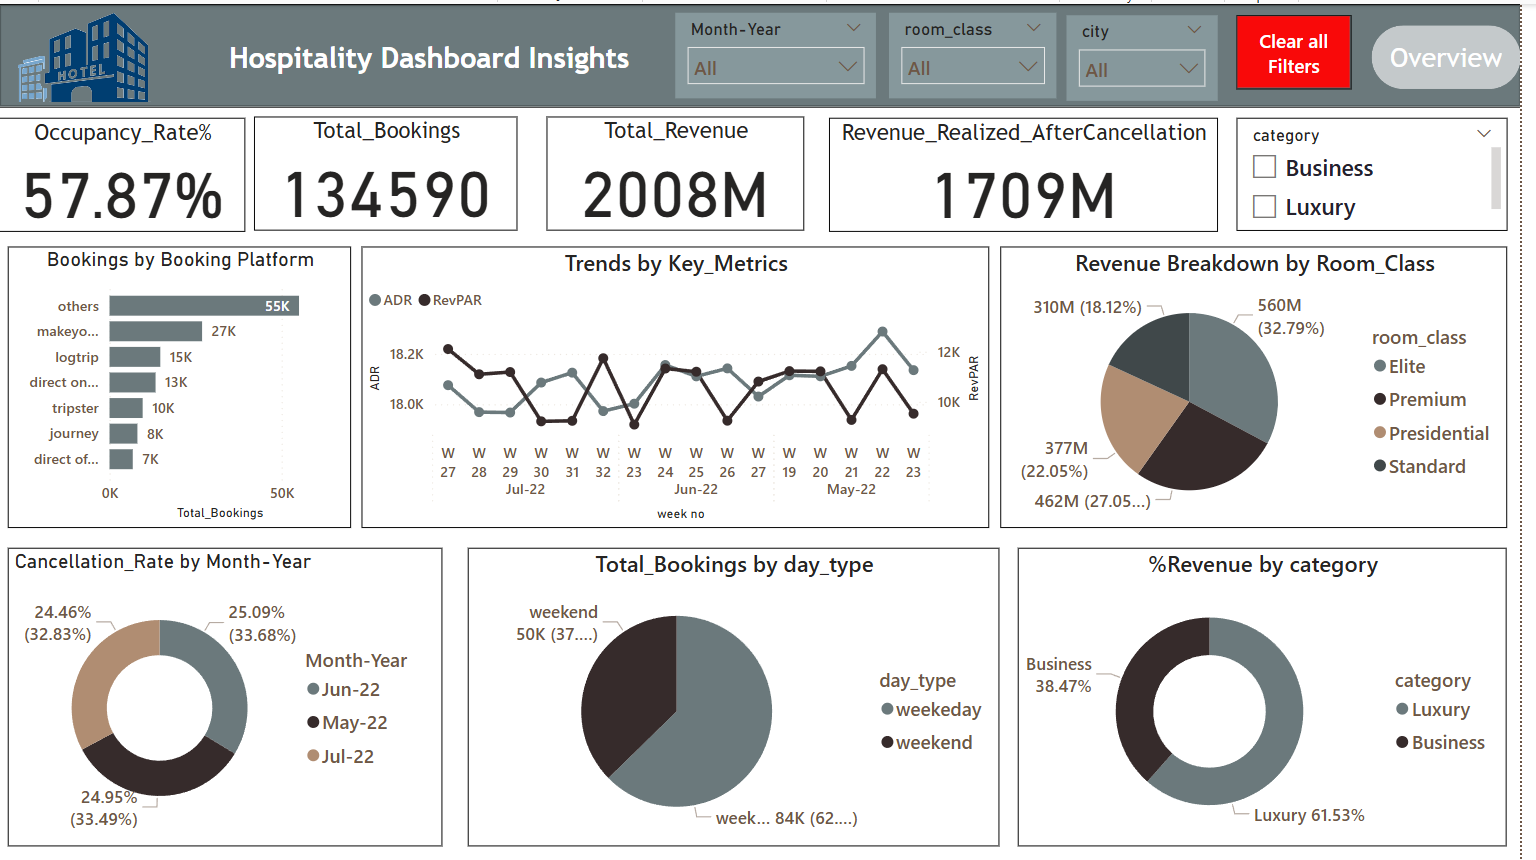

What the dashboard file says about the page in this screenshot:
{"tool":"powerbi","page":{"name":"Hospitality Insights","canvas":[1280,720],"ordinal":1},"visuals":[{"type":"shape","box":[0,0,1280.6,87.3],"z":0},{"type":"shape","box":[139.8,9.5,443.7,70.4],"z":1000},{"type":"image","box":[0,0,139.8,87.3],"z":2000},{"type":"card","title":"Total_Bookings","fields":{"Values":["fact_bookings.Total_Bookings"]},"box":[214.5,94.6,221.8,95.7],"z":3000},{"type":"slicer","fields":{"Values":["dim_date.Month-Year"]},"box":[569,7.7,169.2,71.8],"z":4000},{"type":"slicer","fields":{"Values":["dim_hotels.category"]},"box":[1040.6,96.1,228.1,94.8],"z":5000},{"type":"slicer","fields":{"Values":["dim_rooms.room_class"]},"box":[748.4,7.7,141,71.8],"z":6000},{"type":"slicer","fields":{"Values":["dim_hotels.city"]},"box":[898.4,9,126.9,71.8],"z":7000},{"type":"card","title":"Total_Revenue","fields":{"Values":["fact_bookings.Total_revenue"]},"box":[460.5,94.6,216.6,95.7],"z":8000},{"type":"card","title":"Revenue_Realized_AfterCancellation","fields":{"Values":["fact_bookings.Revenue_AfterCacellation"]},"box":[698.1,95.7,327,95.7],"z":9000},{"type":"card","title":"Occupancy_Rate%","fields":{"Values":["fact_bookings.occupancy_Rate"]},"box":[0,95.7,207.1,95.7],"z":10000},{"type":"lineChart","title":"Trends by Key_Metrics","fields":{"Y":["fact_bookings.ADR"],"Category":["dim_date.Month-Year","dim_date.week no"],"Y2":["fact_bookings.RevPAR"]},"box":[305,203.8,528,237.1],"z":11000},{"type":"pieChart","title":"Revenue Breakdown by Room_Class","fields":{"Category":["dim_rooms.room_class"],"Y":["fact_bookings.Revenue_AfterCacellation"]},"box":[842,203.8,426.8,237.1],"z":12000},{"type":"clusteredBarChart","title":"Bookings by Booking Platform","fields":{"Category":["fact_bookings.booking_platform"],"Y":["fact_bookings.Total_Bookings"]},"box":[7.4,204,289.1,236.6],"z":13000},{"type":"donutChart","title":"%Revenue by category","fields":{"Category":["dim_hotels.category"],"Y":["fact_bookings.Total_revenue"]},"box":[857.4,457.5,411.4,251.2],"z":14000},{"type":"pieChart","fields":{"Category":["dim_date.day_type"],"Y":["fact_bookings.Total_Bookings"]},"box":[394.7,457.5,447.3,251.2],"z":15000},{"type":"donutChart","fields":{"Category":["dim_date.Month-Year"],"Y":["fact_bookings.Cancellation_Rate"]},"box":[7.7,457.5,365.2,251.2],"z":16000},{"type":"actionButton","box":[1040.9,9.5,96.7,62],"z":17000},{"type":"shape","box":[1154.7,17.9,125.6,53.8],"z":18000}]}

Visuals, with their boxes in screenshot pixels (x1, y1, x2, y2), scaled from the page's 1280x720 canvas onto the 1536x860 screenshot:
shape: [0,0,1535,104]
shape: [168,11,700,95]
image: [0,0,168,104]
"Total_Bookings" card: [257,113,524,227]
slicer - dim_date.Month-Year: [683,9,886,95]
slicer - dim_hotels.category: [1249,115,1522,228]
slicer - dim_rooms.room_class: [898,9,1067,95]
slicer - dim_hotels.city: [1078,11,1230,97]
"Total_Revenue" card: [553,113,813,227]
"Revenue_Realized_AfterCancellation" card: [838,114,1230,229]
"Occupancy_Rate%" card: [0,114,249,229]
"Trends by Key_Metrics" lineChart: [366,243,1000,527]
"Revenue Breakdown by Room_Class" pieChart: [1010,243,1523,527]
"Bookings by Booking Platform" clusteredBarChart: [9,244,356,526]
"%Revenue by category" donutChart: [1029,546,1523,847]
pieChart - dim_date.day_type x fact_bookings.Total_Bookings: [474,546,1010,847]
donutChart - dim_date.Month-Year x fact_bookings.Cancellation_Rate: [9,546,447,847]
actionButton: [1249,11,1365,85]
shape: [1386,21,1535,86]
